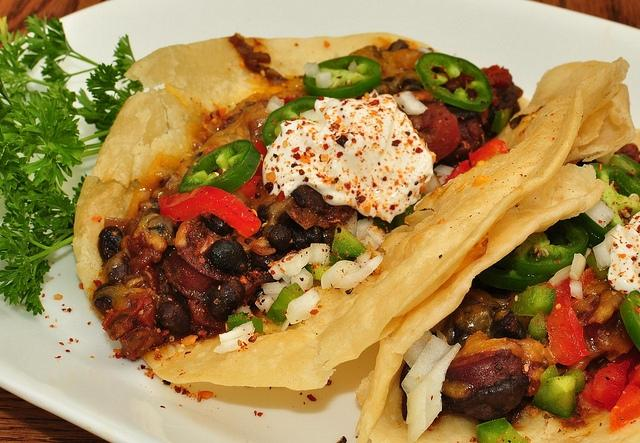bell pepper: (158, 186, 262, 238), (178, 140, 262, 194), (513, 217, 589, 276), (303, 55, 382, 99), (587, 164, 640, 228), (478, 249, 552, 292), (262, 96, 318, 146), (532, 373, 578, 420), (265, 282, 305, 326), (619, 290, 640, 351), (512, 286, 554, 316), (476, 418, 528, 442), (332, 224, 366, 258), (528, 312, 547, 342), (302, 263, 332, 282), (491, 108, 512, 134), (228, 312, 251, 322)
onion: (402, 335, 462, 443), (332, 254, 383, 288), (284, 289, 320, 324), (321, 260, 363, 290), (213, 326, 256, 353), (403, 330, 432, 368), (584, 200, 616, 228), (393, 91, 428, 116), (220, 324, 252, 343), (291, 267, 314, 293), (592, 239, 610, 270), (548, 264, 572, 286), (308, 243, 330, 266), (568, 253, 586, 281), (356, 230, 379, 250), (254, 293, 274, 316), (264, 94, 284, 114), (366, 226, 386, 246), (282, 256, 302, 276), (344, 210, 357, 239), (569, 279, 583, 299), (268, 264, 285, 280), (302, 63, 320, 78), (316, 72, 332, 88), (434, 164, 455, 176), (262, 282, 282, 294), (279, 278, 291, 288), (417, 47, 433, 54)
